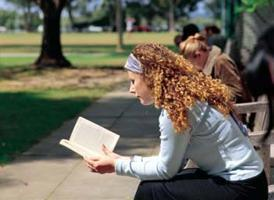person: (85, 44, 270, 200)
